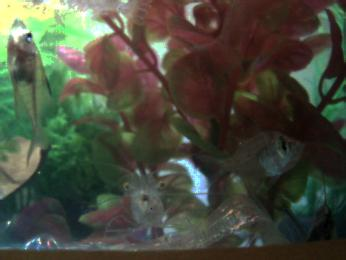X-ray fish: (6, 20, 58, 165), (198, 133, 304, 184)
siberian prawn: (111, 166, 185, 237)
